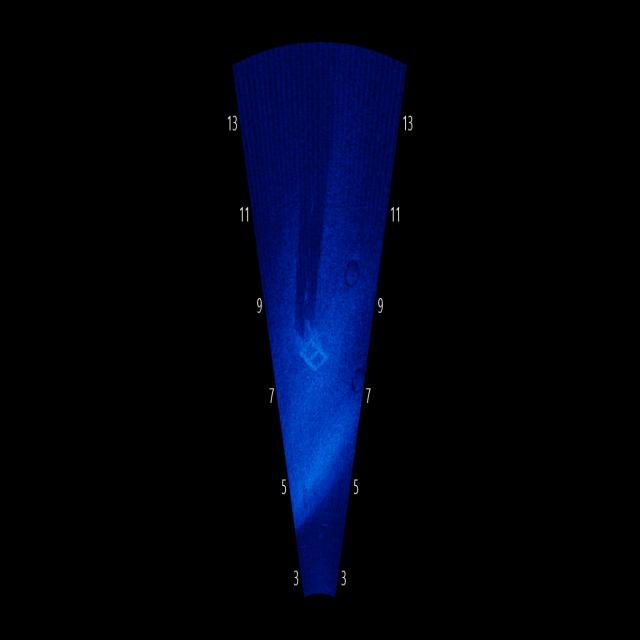circle: (341, 251, 364, 291)
square: (286, 313, 336, 378)
